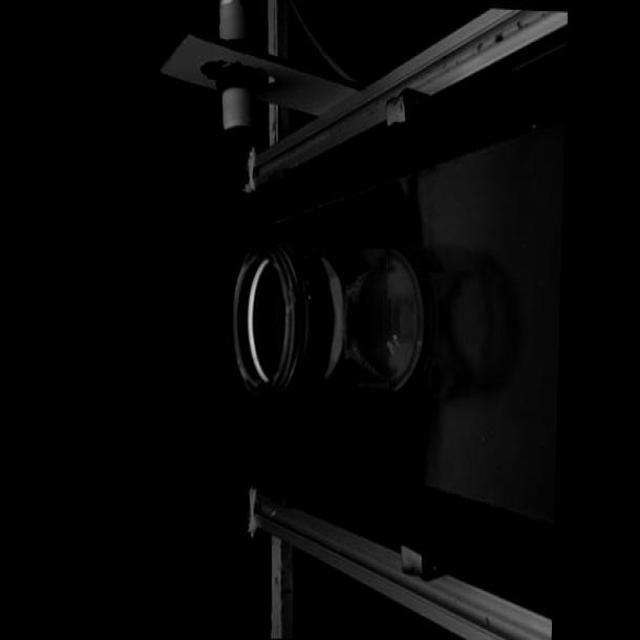defect: (284, 285, 295, 311), (306, 291, 312, 300)
glass: (227, 231, 428, 409)
